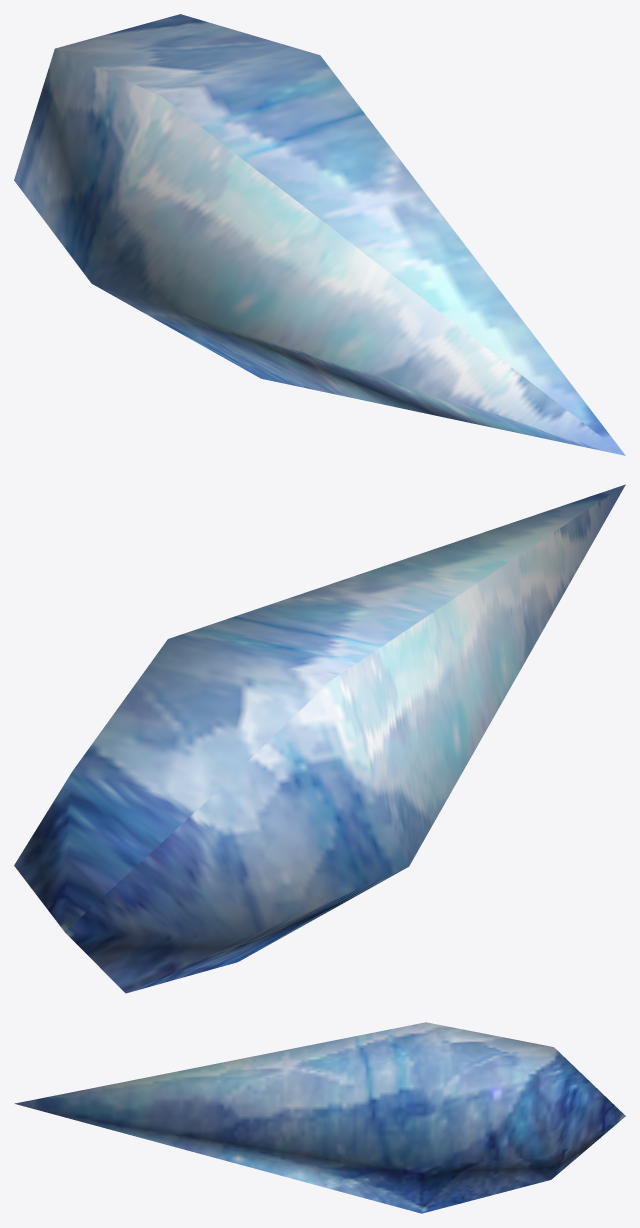
Rendered from planar_ice_shot.glb.
3 views of the same model, one above another, from view 1: azimuth 30°, elevation 25°; view 2: azimuth 150°, elevation 25°; view 3: azimuth 270°, elevation 25° (orthographic). The views are drawn at different scales.
Parts seen in each view (by area): view 1: planar_ice; view 2: planar_ice; view 3: planar_ice.
Boxes of the visible parts, x1,y1,x2,y2 form: planar_ice: [14, 14, 625, 455]; planar_ice: [14, 484, 625, 993]; planar_ice: [14, 1022, 625, 1213].
Bounding box in the file's own units: 2.81 × 2.62 × 8.71.
1 material, 1 textured.
